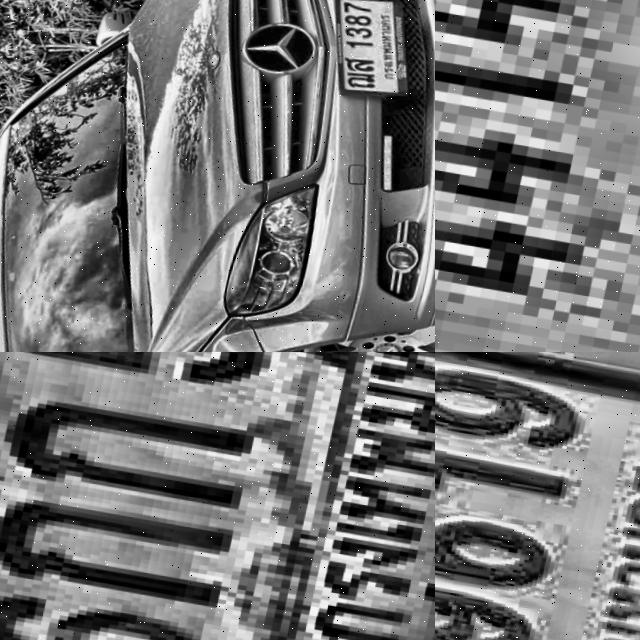license-plate: (0, 352, 435, 640), (435, 0, 640, 352), (435, 352, 640, 640), (313, 0, 434, 109)
